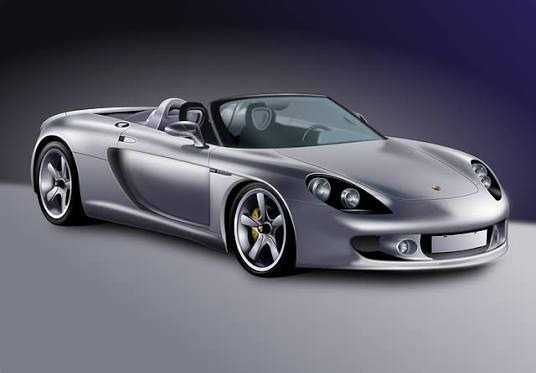car: (30, 92, 524, 275)
